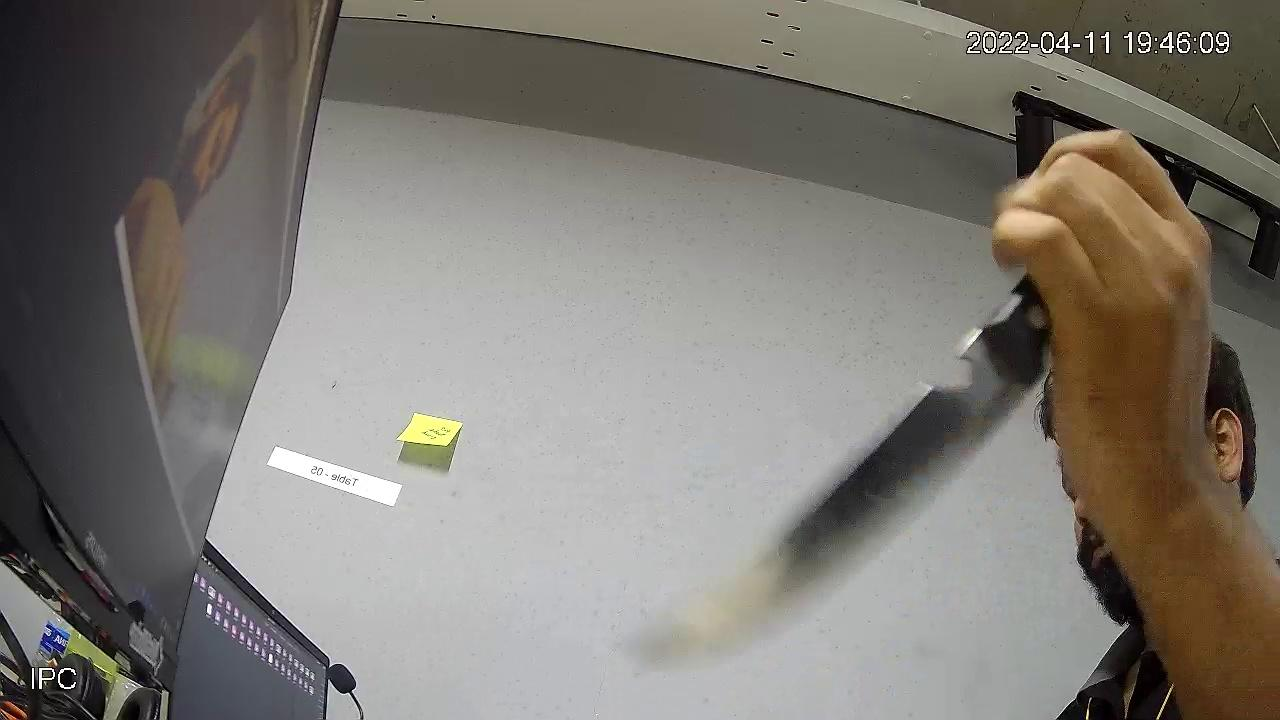knives: (600, 266, 1070, 696)
